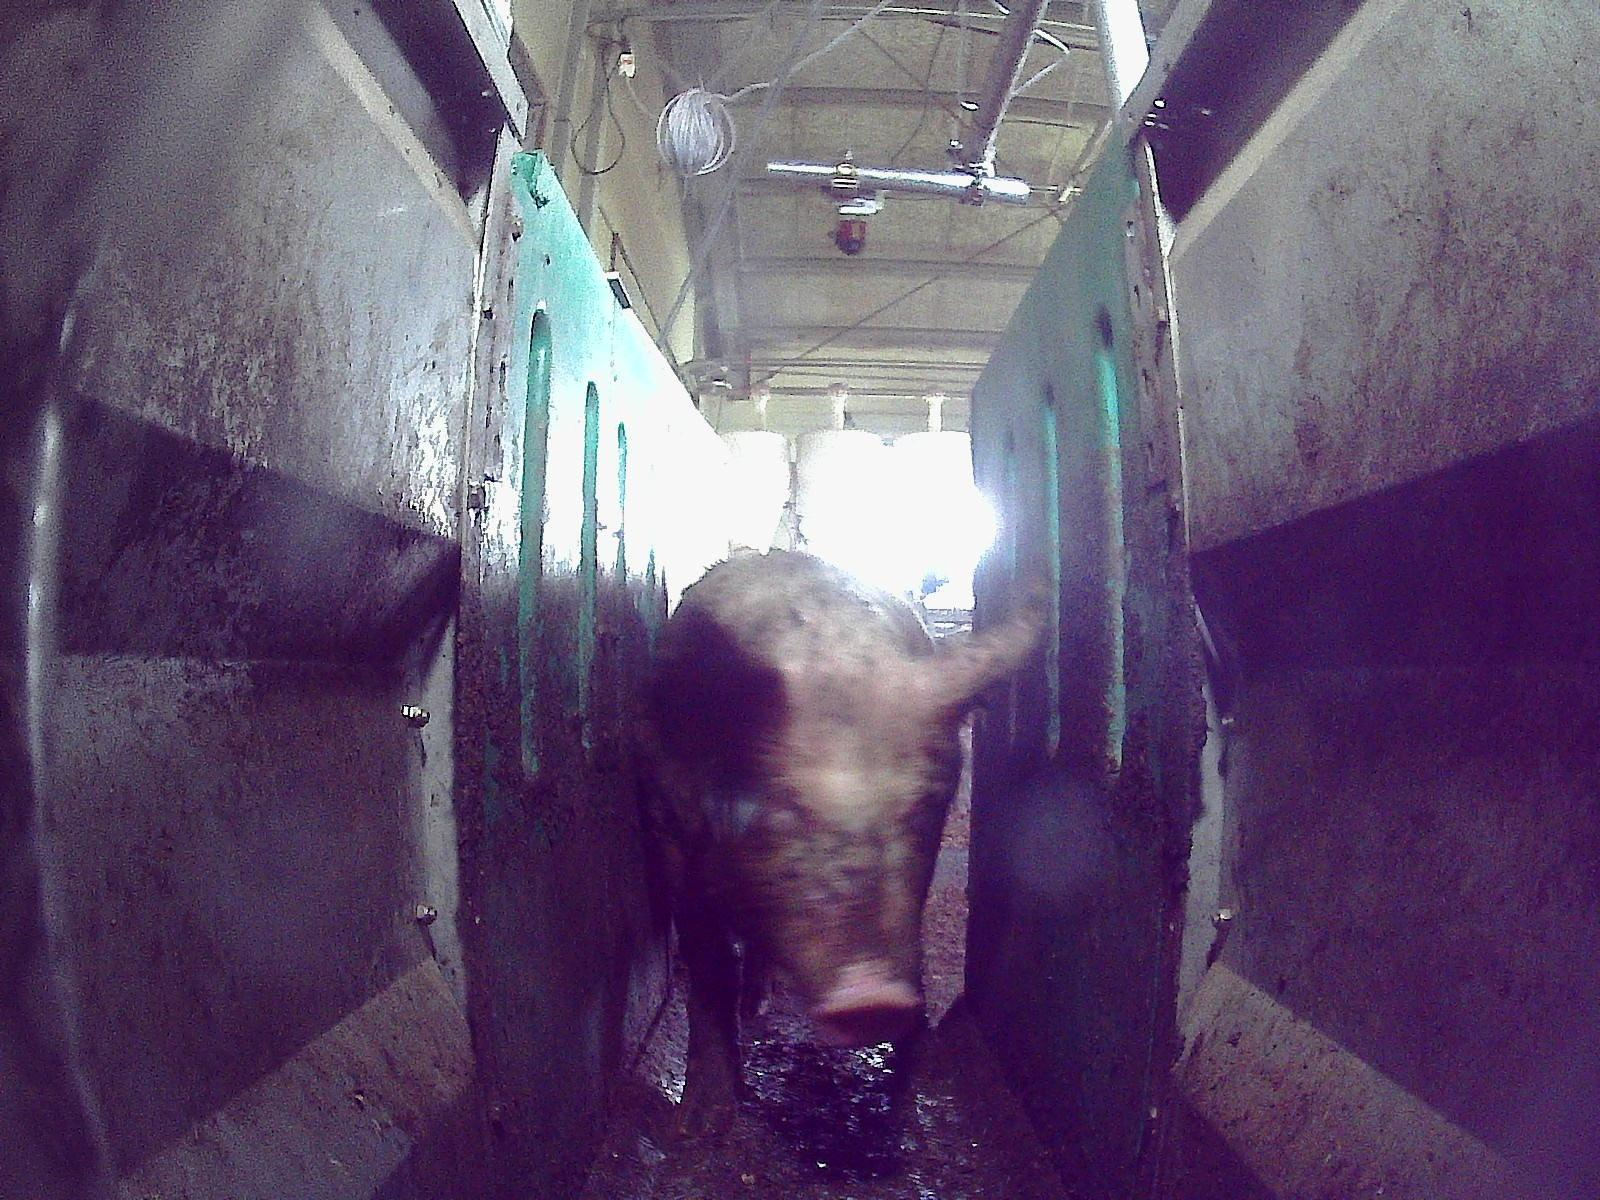Face: (721, 707, 952, 1043)
